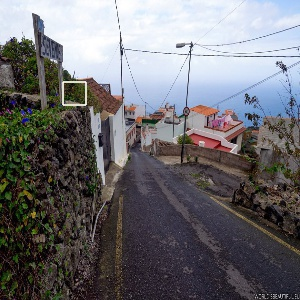square: (59, 79, 90, 109)
